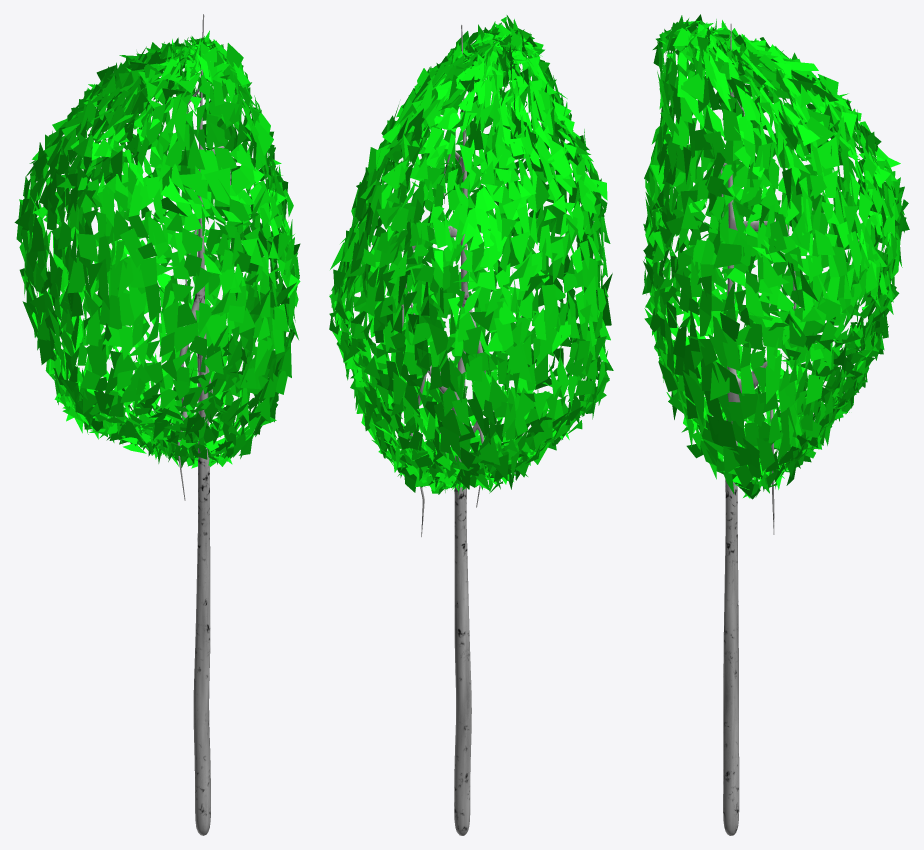
File: Leaves61.002.fbx
3 views of the same model, side by side, from view 1: azimuth 30°, elevation 25°; view 2: azimuth 150°, elevation 25°; view 3: azimuth 270°, elevation 25° (orthographic).
Visible parts, largest first — view 1: Leaves61.002; view 2: Leaves61.002; view 3: Leaves61.002.
Boxes of the visible parts, x1,y1,x2,y2 form: Leaves61.002: [14, 14, 300, 835]; Leaves61.002: [329, 15, 613, 835]; Leaves61.002: [642, 14, 909, 835].
Bounding box in the file's own units: 795 × 2574 × 768.
2 materials, 1 textured.
